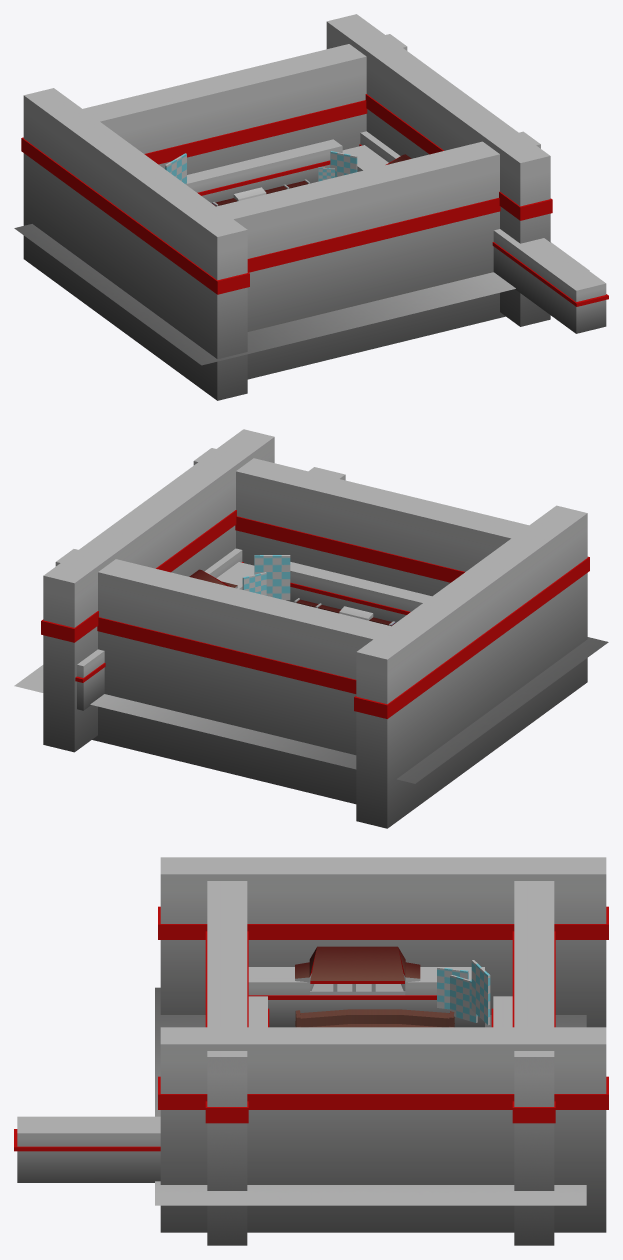
The model's file is HockeyLevel.fbx.
3 views of the same model, one above another, from view 1: azimuth 30°, elevation 25°; view 2: azimuth 150°, elevation 25°; view 3: azimuth 270°, elevation 25° (orthographic). The views are drawn at different scales.
Parts seen in each view (by area): view 1: pCube18, pCube20, pCube17, pCube19, pPlane1, pCube12, pCube10, pCube13, pCube16, pCube8; view 2: pCube17, pCube20, pCube18, pCube19, pPlane1, pCube3, pCube12, pCube7, pCube13, pCube2; view 3: pCube19, pCube20, pCube17, pCube18, pCube11, pPlane1, pCube12, pCube9, pCube6, pCube21, pCube5, pCube10 (+1 smaller).
Part boxes in pixels (<box>): pCube18: <box>216,131,540,379</box>; pCube20: <box>21,88,249,400</box>; pCube17: <box>83,34,407,174</box>; pCube19: <box>326,14,552,326</box>; pPlane1: <box>14,224,589,365</box>; pCube12: <box>359,131,608,333</box>; pCube10: <box>187,139,342,203</box>; pCube13: <box>342,145,411,171</box>; pCube16: <box>212,179,309,206</box>; pCube8: <box>330,151,357,177</box>; pCube17: <box>55,549,390,804</box>; pCube20: <box>354,505,589,828</box>; pCube18: <box>193,448,528,596</box>; pCube19: <box>41,429,274,752</box>; pPlane1: <box>14,637,608,783</box>; pCube3: <box>286,562,431,622</box>; pCube12: <box>75,467,345,710</box>; pCube7: <box>254,555,290,600</box>; pCube13: <box>189,562,254,589</box>; pCube2: <box>294,598,395,626</box>; pCube19: <box>158,1027,608,1232</box>; pCube20: <box>158,857,608,1027</box>; pCube17: <box>512,881,555,1245</box>; pCube18: <box>205,881,248,1245</box>; pCube11: <box>248,946,484,1027</box>; pPlane1: <box>155,987,586,1205</box>; pCube12: <box>14,1116,160,1182</box>; pCube9: <box>295,1009,454,1027</box>; pCube6: <box>471,960,490,1025</box>; pCube21: <box>450,975,477,1022</box>; pCube5: <box>437,967,468,1009</box>; pCube10: <box>491,996,512,1027</box>.
Size of the model in its own units: 129 by 53.77 by 149.
Materials: 2 (2 with a texture image).
